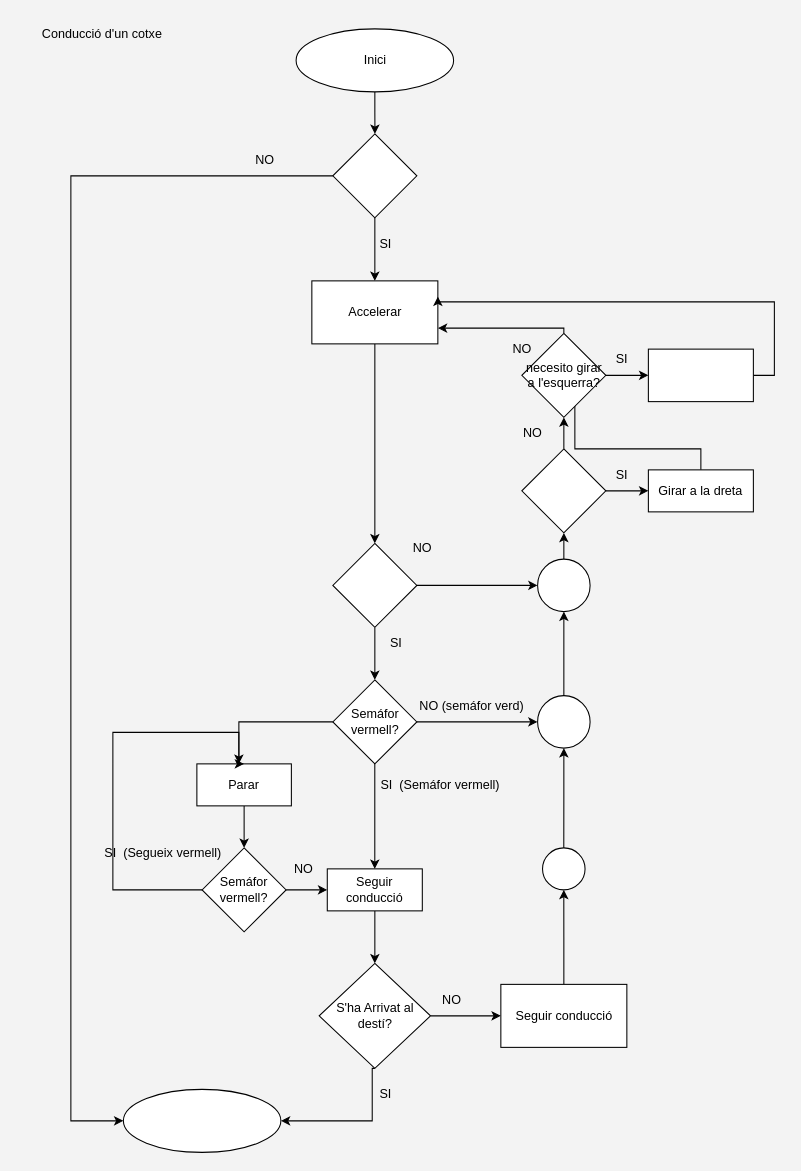
Image size: 801x1171. Some labels were removed from this diagram. The shapes that lost their labels are listed below. From the top down, each one's centre as x and y in pixels, then its label:
At [374,175]: "Arranca".
At [700,375]: "Girar a l'esquerra".
At [563,490]: "necesito girar a la dreta?".
At [374,584]: "Semáfor?".
At [201,1120]: "FI".
